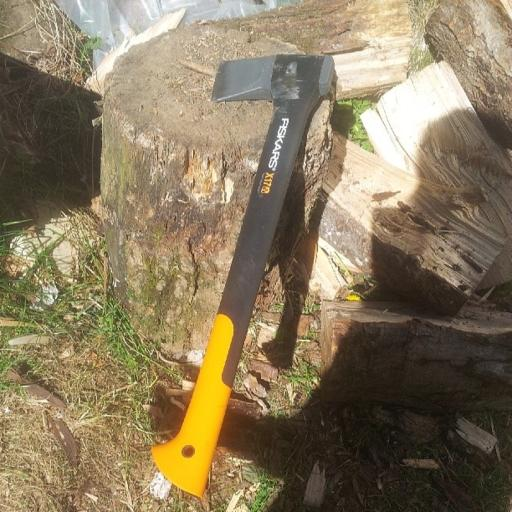Axe: (148, 51, 336, 502)
